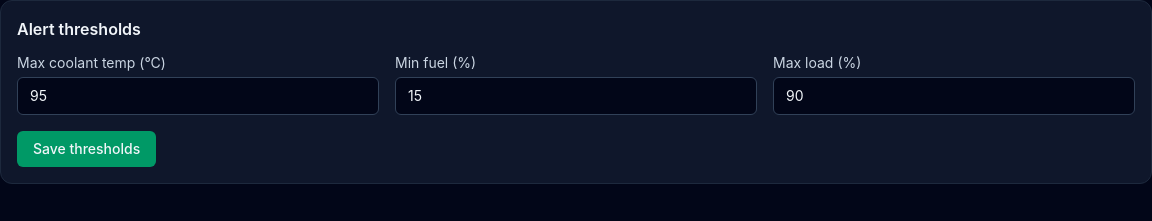
ThresholdsForm › validates with zod and does not submit invalid data
Replace the text in the number field labelled "Max coolant temp (°C)" with "500": (198, 96) [17,77,379,115]
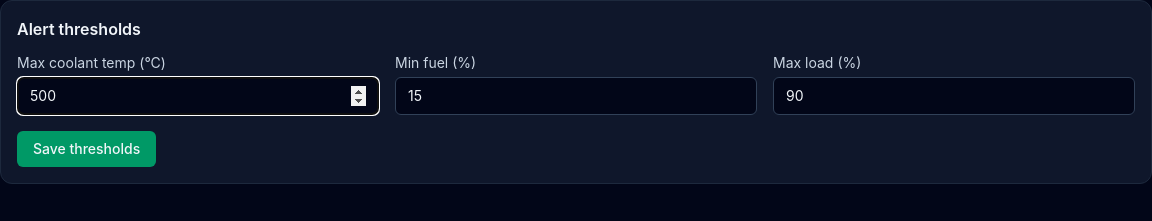
Click the button "Save thresholds": (87, 149) [17,131,156,167]
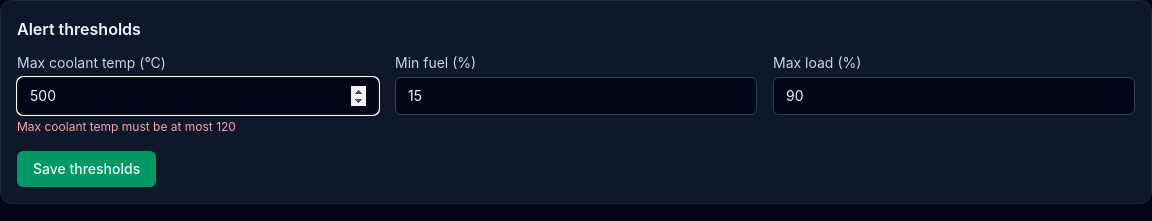
Result: the text "Max coolant temp must be at most 120" is shown at [17,119,236,134]
